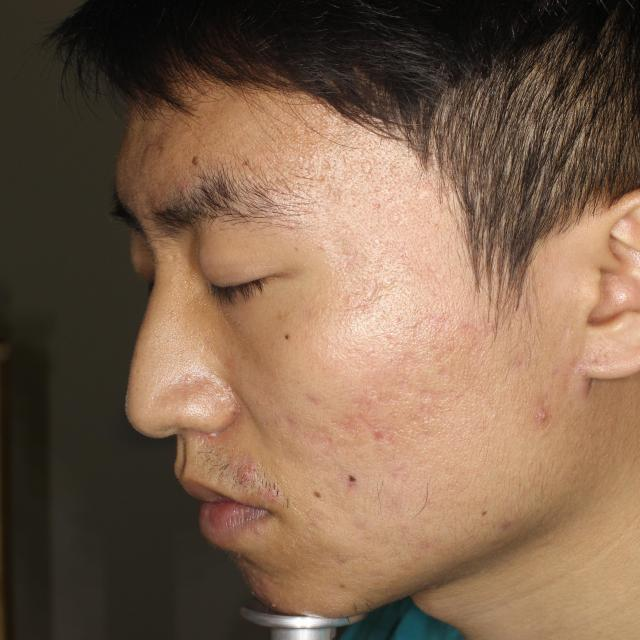acne: (522, 400, 555, 429), (357, 422, 393, 448), (196, 425, 234, 445), (251, 567, 278, 594), (328, 404, 355, 430), (238, 458, 264, 483), (303, 388, 322, 414)
